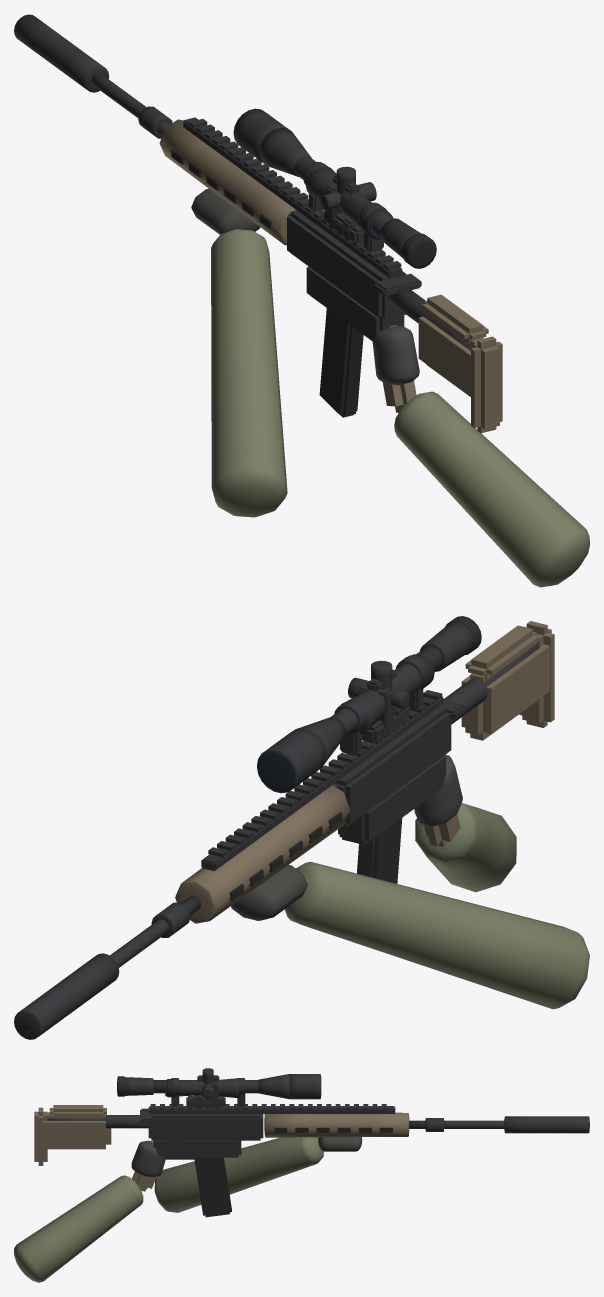
Rendered from rifle.glb.
3 views of the same model, one above another, from view 1: azimuth 30°, elevation 25°; view 2: azimuth 150°, elevation 25°; view 3: azimuth 270°, elevation 25° (orthographic). The views are drawn at different scales.
Visible parts, largest first — view 1: fp_arms, rifle.001, optic_sniper, optic_acog; view 2: rifle.001, fp_arms, optic_sniper, optic_acog, optic_reddot.001; view 3: rifle.001, fp_arms, optic_sniper, optic_acog, optic_reddot.001.
Part boxes in pixels (x1,y1,x2,y2): fp_arms: (191, 188, 589, 587); rifle.001: (14, 14, 502, 433); optic_sniper: (233, 108, 436, 268); optic_acog: (305, 166, 393, 243); rifle.001: (14, 621, 554, 1039); fp_arms: (231, 755, 589, 1009); optic_sniper: (257, 616, 481, 793); optic_acog: (341, 654, 434, 742); optic_reddot.001: (359, 683, 405, 738); rifle.001: (34, 1104, 589, 1217); fp_arms: (14, 1137, 362, 1282); optic_sniper: (117, 1068, 321, 1106); optic_acog: (165, 1075, 240, 1107); optic_reddot.001: (193, 1082, 218, 1107).
Bounding box in the file's own units: 0.3968 × 0.4839 × 1.31.
